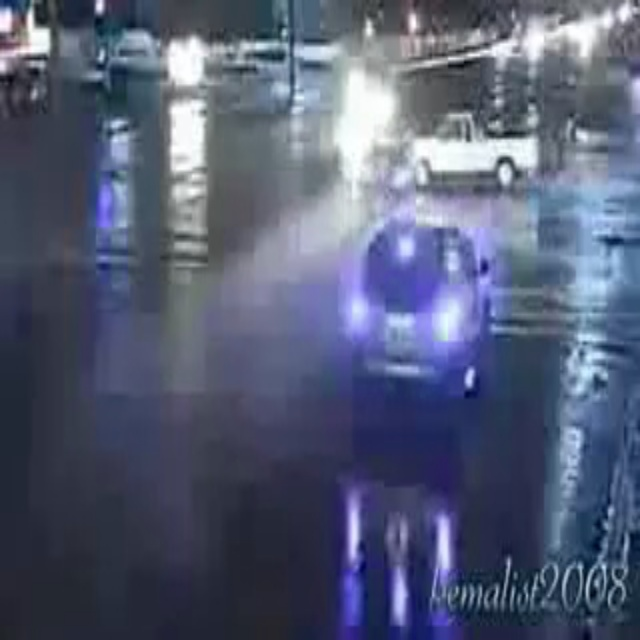acc: (321, 85, 474, 201)
